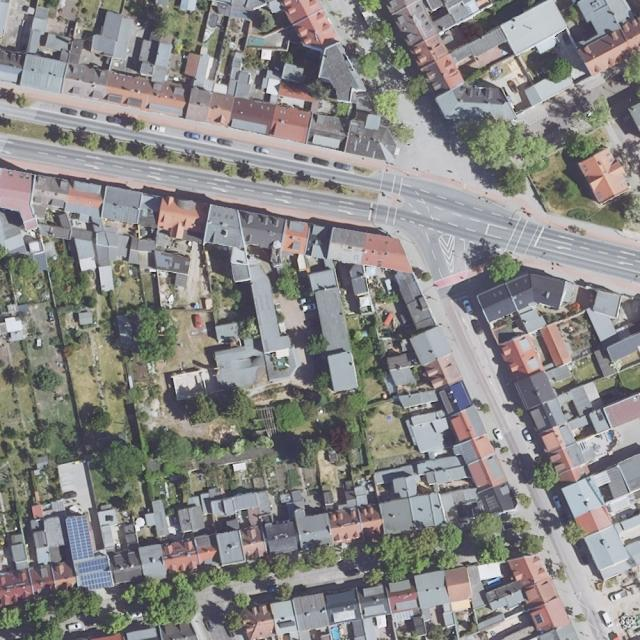PV: (65, 514, 95, 561), (75, 558, 110, 574), (82, 572, 113, 590)
